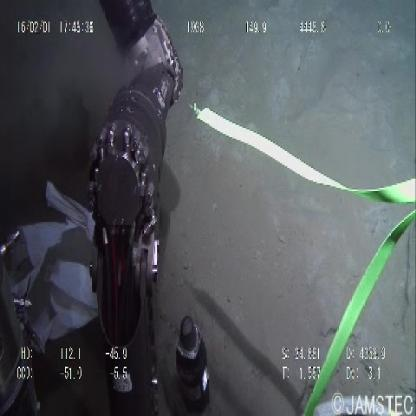Rov: (91, 1, 211, 412)
Rác: (7, 182, 102, 345)
